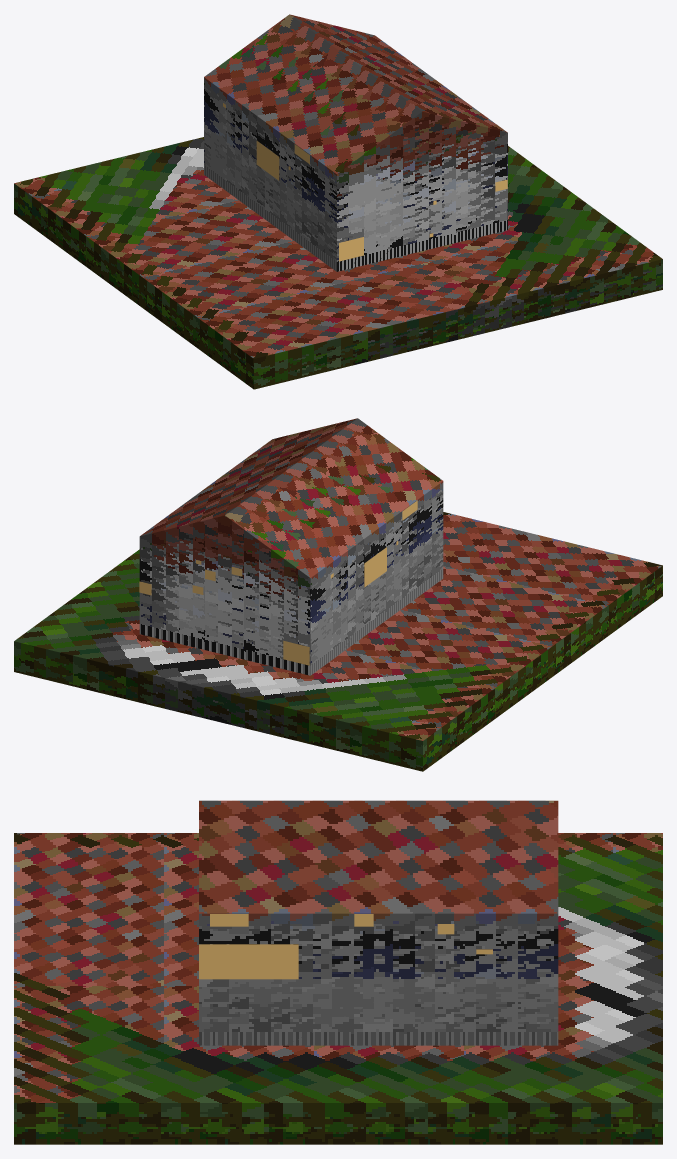
Rendered from dum_50_domy.glb.
3 views of the same model, one above another, from view 1: azimuth 30°, elevation 25°; view 2: azimuth 150°, elevation 25°; view 3: azimuth 270°, elevation 25° (orthographic). The views are drawn at different scales.
Parts seen in each view (by area): view 1: object 1, noc; view 2: object 1, noc; view 3: object 1, noc.
Part boxes in pixels (x1=…): object 1: x1=14, y1=14, x2=662, y2=389; noc: x1=223, y1=103, x2=507, y2=261; object 1: x1=14, y1=418, x2=662, y2=771; noc: x1=139, y1=500, x2=417, y2=665; object 1: x1=14, y1=800, x2=662, y2=1144; noc: x1=199, y1=914, x2=492, y2=979.
Size of the model in its own units: 14.38 by 5.72 by 14.61.
1 material, 1 textured.
